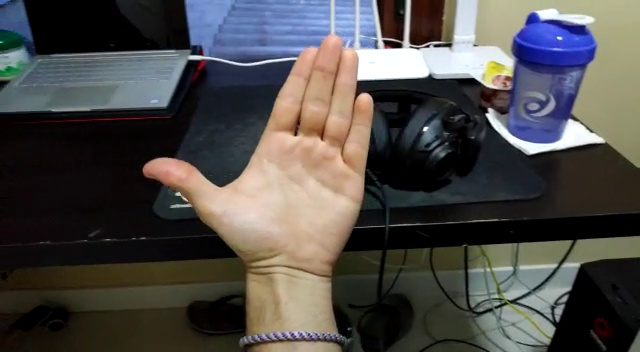Palm: (139, 34, 375, 278)
